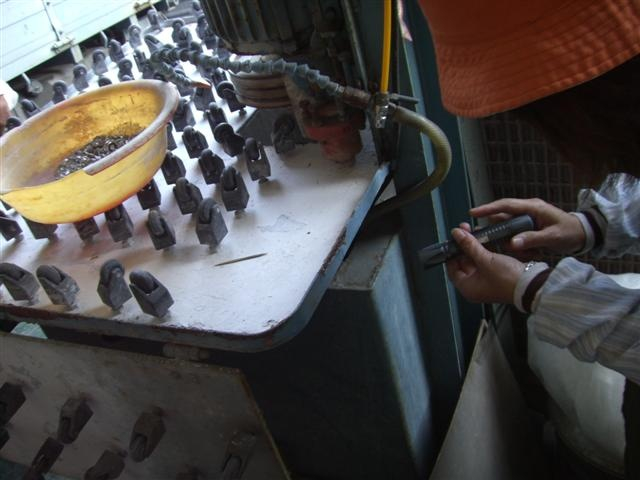bowl: (1, 77, 180, 225)
